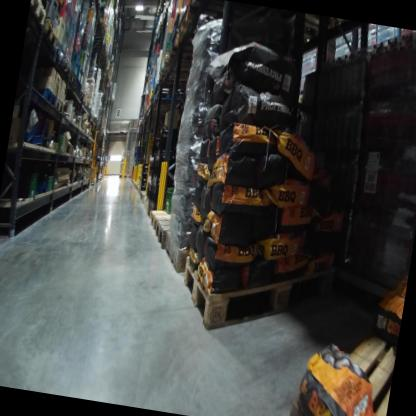pallet: (176, 242, 329, 346), (285, 283, 404, 416), (165, 25, 217, 64), (161, 229, 197, 281), (177, 6, 224, 44), (156, 55, 200, 88), (154, 213, 191, 252), (27, 83, 60, 115), (146, 204, 172, 239), (47, 35, 70, 74), (42, 17, 63, 55), (27, 0, 49, 29), (62, 58, 74, 80), (72, 76, 83, 99), (29, 0, 50, 10), (67, 71, 77, 90), (54, 98, 64, 116), (80, 92, 88, 108), (90, 0, 101, 8)
